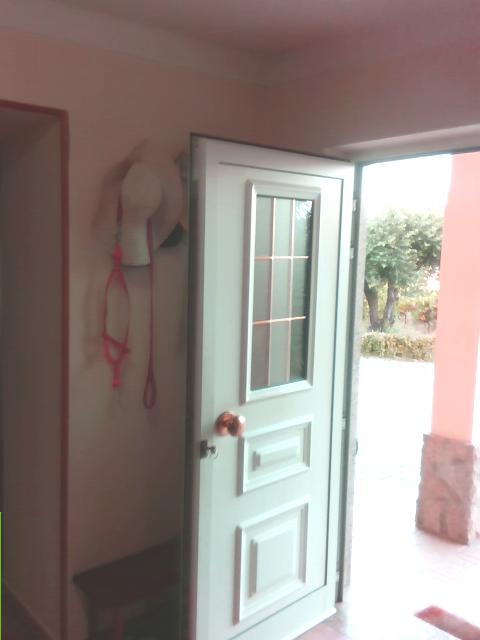open_door: (333, 139, 479, 609)
